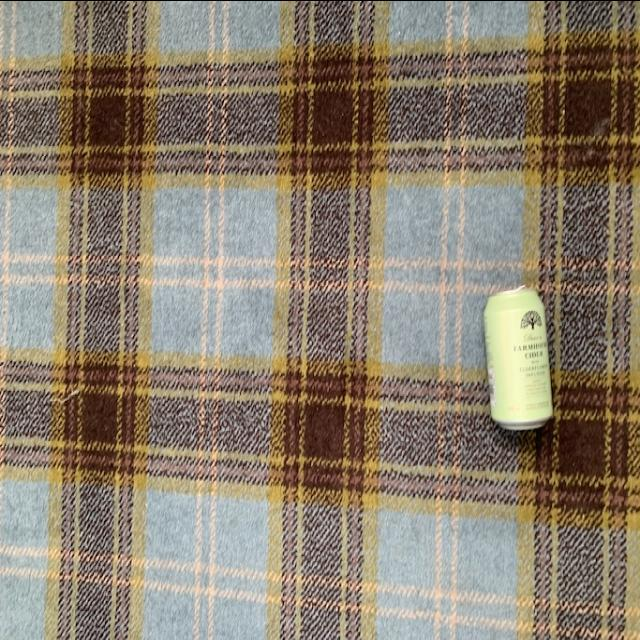litter: (484, 285, 554, 431)
